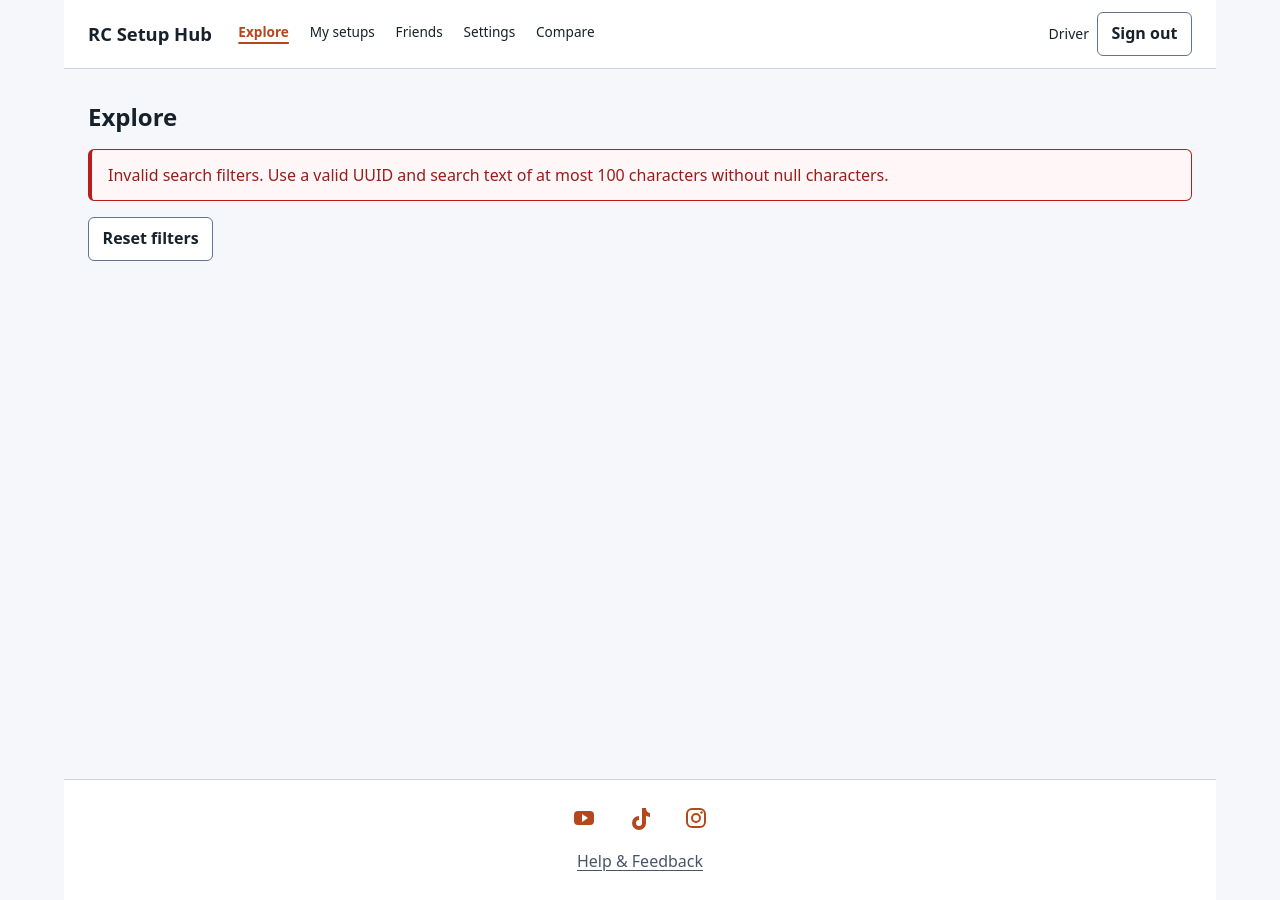
Scenario: invalid URL brand_id=bad makes no search/catalog requests
Expected: the message shows "Invalid search filters", top-left (108, 164), bottom-right (888, 186)
Step 1. Click the button "Reset filters" → (151, 239), box top-left (88, 217), bottom-right (213, 261)
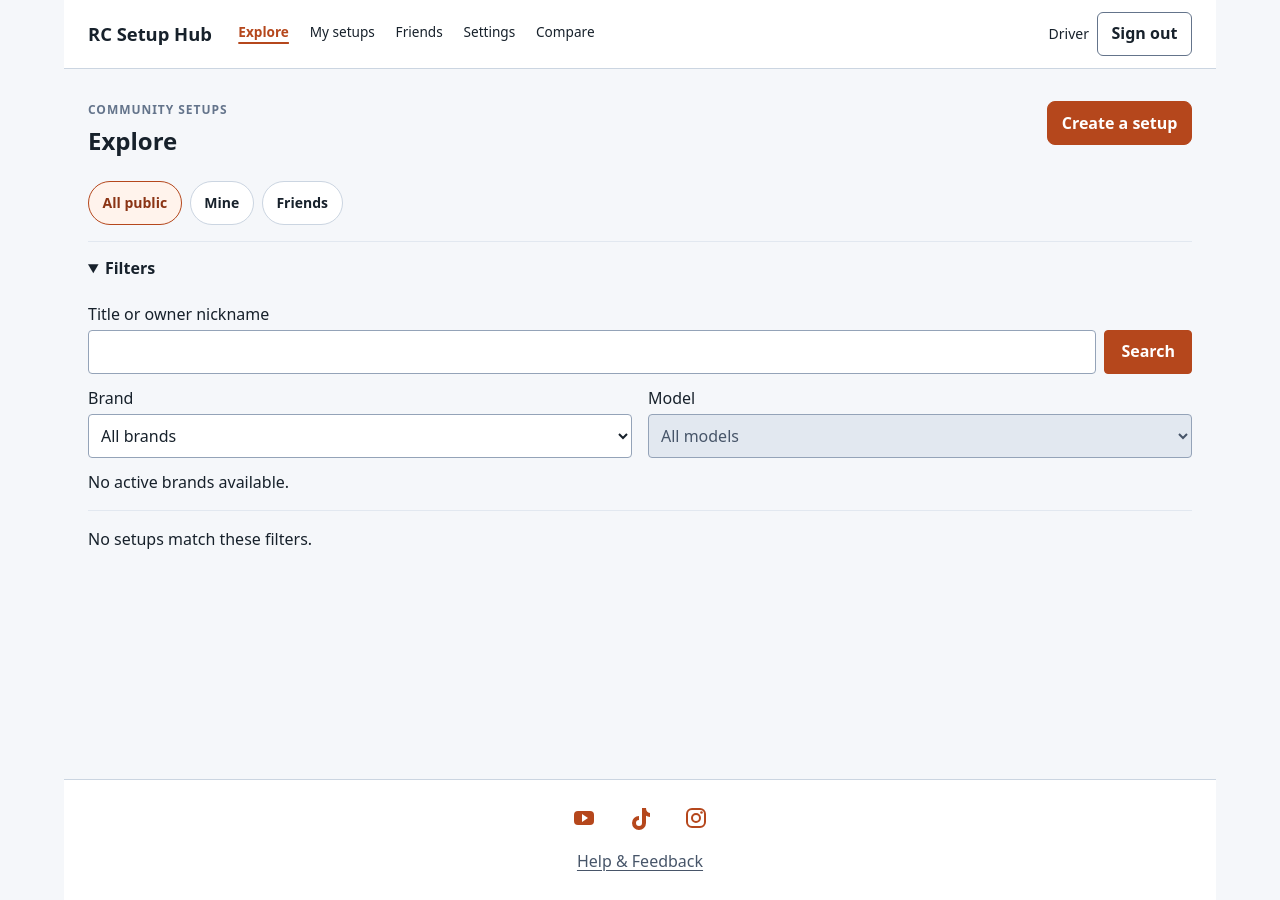
Expected: the text "No setups match these filters." is shown, top-left (88, 528), bottom-right (312, 550)
